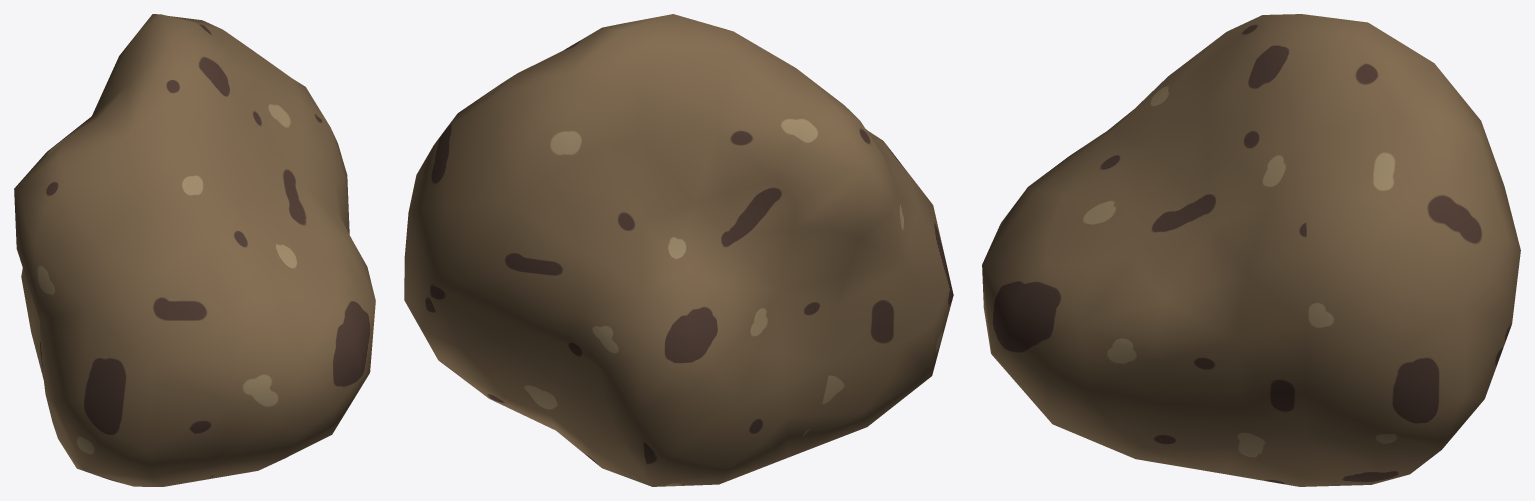
The model's file is Rock01.fbx.
3 renders of one model, left to right at view 1: azimuth 30°, elevation 25°; view 2: azimuth 150°, elevation 25°; view 3: azimuth 270°, elevation 25°, orthographic. The views are drawn at different scales.
Parts seen in each view (by area): view 1: Icosphere; view 2: Icosphere; view 3: Icosphere.
Boxes of the visible parts, x1,y1,x2,y2 form: Icosphere: (14, 14, 375, 486); Icosphere: (404, 14, 953, 486); Icosphere: (982, 14, 1520, 486).
Size of the model in its own units: 0.2522 by 0.2622 by 0.2786.
